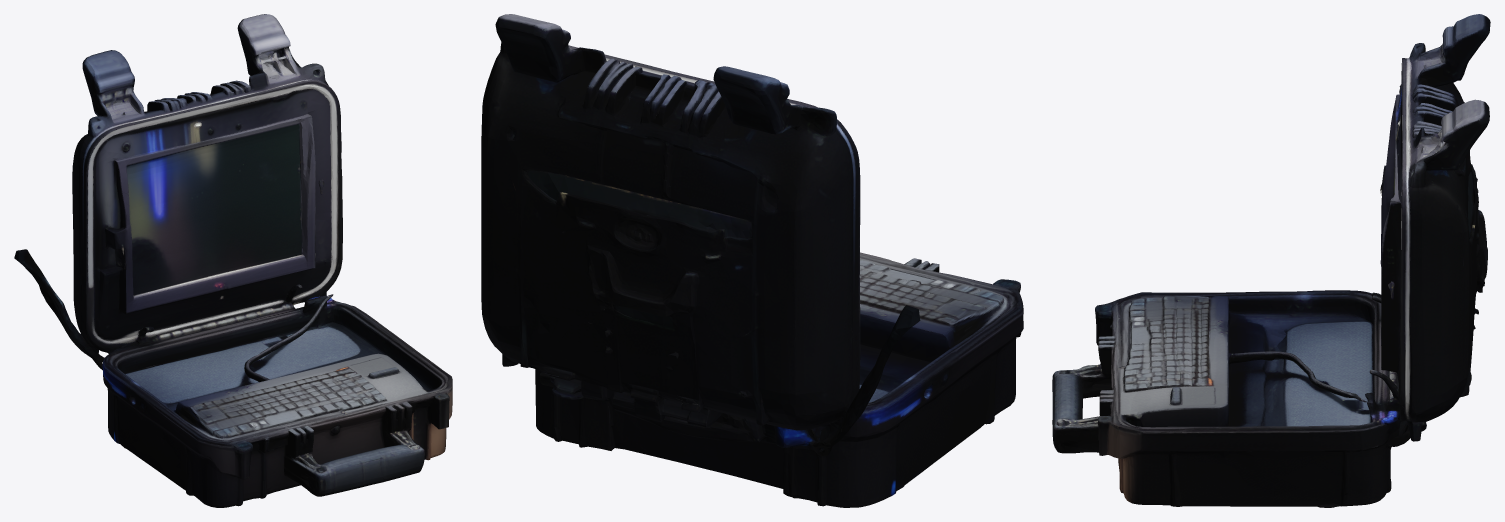
The model's file is Vart.glb.
3 renders of one model, left to right at view 1: azimuth 30°, elevation 25°; view 2: azimuth 150°, elevation 25°; view 3: azimuth 270°, elevation 25°, orthographic. The views are drawn at different scales.
Visible parts, largest first — view 1: world; view 2: world; view 3: world.
Part boxes in pixels (left/top/right/bottom): world: left=14, top=14, right=452, bottom=507; world: left=481, top=14, right=1023, bottom=507; world: left=1052, top=14, right=1490, bottom=507.
Bounding box in the file's own units: 0.9309 × 0.9514 × 0.9969.
Materials: 1 (1 with a texture image).
